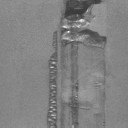slag inclusion: (46, 0, 108, 128)
